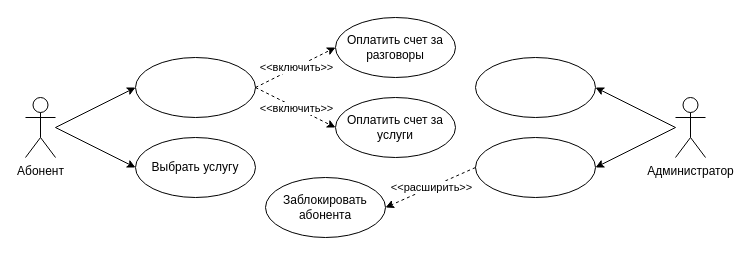
Some shapes in this 751 by 255 pixel diagram are drawn without their labels. The centre of each missing label's shape, as x and y in pixels:
Оплатить счет: the point at 195,87
Подключение абонента: the point at 535,87
Просмотр неоплаченных счетов: the point at 535,167
